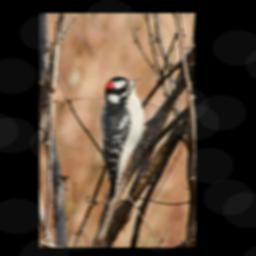Woodpecker: (101, 76, 148, 203)
